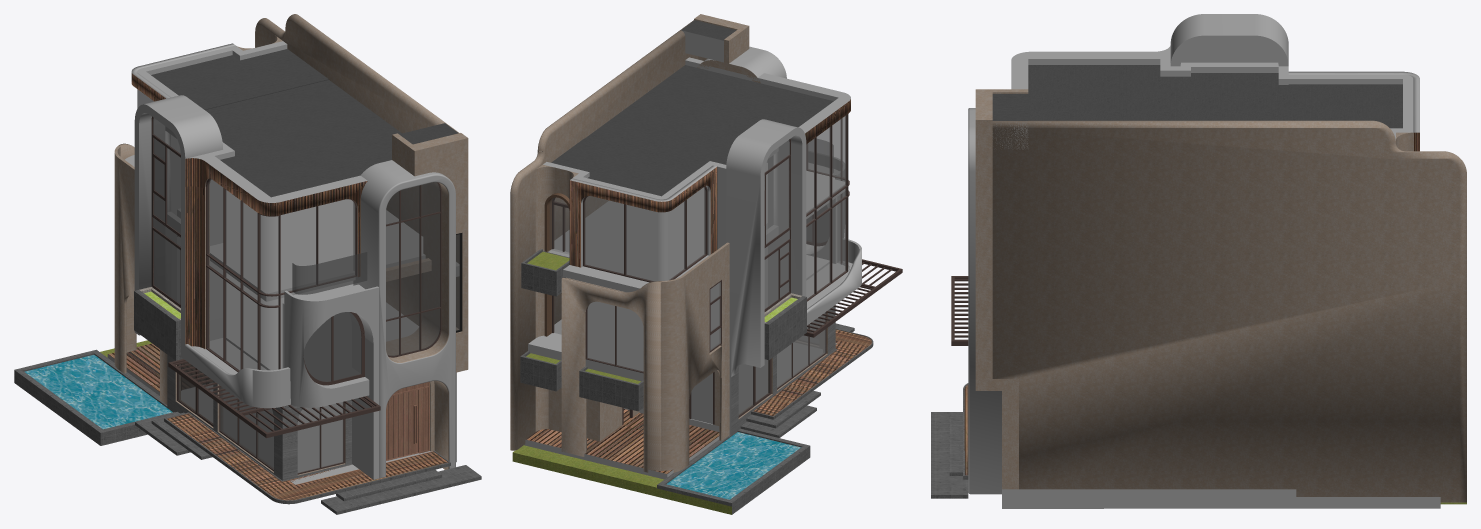
File: Solar_Villa_DL.glb
3 renders of one model, left to right at view 1: azimuth 30°, elevation 25°; view 2: azimuth 150°, elevation 25°; view 3: azimuth 270°, elevation 25°, orthographic. The views are drawn at different scales.
Visible parts, largest first — view 1: G-Object.034, C-Component#56, G-Object.012, G-Object.153, C-Component#74, _G-Object.001 (Loose Mesh), G-Object.088, G-Object.017, C-Component#51, G-Object.015, G-Object.032, G-Object.019 (+33 smaller); view 2: G-Object.012, G-Object.153, C-Component#56, G-Object.158, C-Component#74, _G-Object.155 (Loose Mesh), C-Component#53, C-Component#51, G-Object.017, C-Component#57, G-Object.011, G-Object.054 (+37 smaller); view 3: G-Object.012, C-Component#56, _G-Object.060 (Loose Mesh), C-Component#53, C-Component#51, G-Object.034, G-Object.153, G-Object.033, C-Component#50, G-Object.015, G-Object.113, C-Component#58.
Boxes of the visible parts, bbox=[...] form: G-Object.034: bbox=[353, 160, 455, 478]; C-Component#56: bbox=[203, 83, 401, 202]; G-Object.012: bbox=[167, 14, 458, 480]; G-Object.153: bbox=[134, 95, 223, 346]; C-Component#74: bbox=[125, 155, 425, 301]; _G-Object.001 (Loose Mesh): bbox=[282, 284, 378, 479]; G-Object.088: bbox=[386, 182, 440, 355]; G-Object.017: bbox=[207, 179, 257, 370]; C-Component#51: bbox=[137, 41, 328, 109]; G-Object.015: bbox=[185, 154, 367, 348]; G-Object.032: bbox=[164, 412, 450, 504]; G-Object.019: bbox=[280, 199, 355, 293]; G-Object.012: bbox=[510, 20, 835, 450]; G-Object.153: bbox=[726, 119, 806, 376]; C-Component#56: bbox=[589, 57, 847, 164]; G-Object.158: bbox=[660, 242, 729, 472]; C-Component#74: bbox=[548, 163, 845, 292]; _G-Object.155 (Loose Mesh): bbox=[561, 277, 661, 472]; C-Component#53: bbox=[524, 343, 836, 479]; C-Component#51: bbox=[543, 138, 712, 257]; G-Object.017: bbox=[806, 116, 846, 299]; C-Component#57: bbox=[528, 247, 829, 381]; G-Object.011: bbox=[666, 432, 800, 499]; G-Object.054: bbox=[584, 196, 646, 279]; G-Object.012: bbox=[992, 120, 1466, 502]; C-Component#56: bbox=[1018, 54, 1278, 120]; _G-Object.060 (Loose Mesh): bbox=[975, 89, 1028, 489]; C-Component#53: bbox=[1002, 489, 1440, 508]; C-Component#51: bbox=[1288, 74, 1413, 140]; G-Object.034: bbox=[968, 108, 1001, 494]; G-Object.153: bbox=[1170, 14, 1288, 66]; G-Object.033: bbox=[931, 412, 968, 498]; C-Component#50: bbox=[1288, 71, 1419, 151]; G-Object.015: bbox=[1011, 45, 1170, 89]; G-Object.113: bbox=[949, 416, 962, 475]; C-Component#58: bbox=[1278, 66, 1288, 120].
Size of the model in its own units: 9.78 by 12.97 by 15.88.
21 materials, 13 textured.
